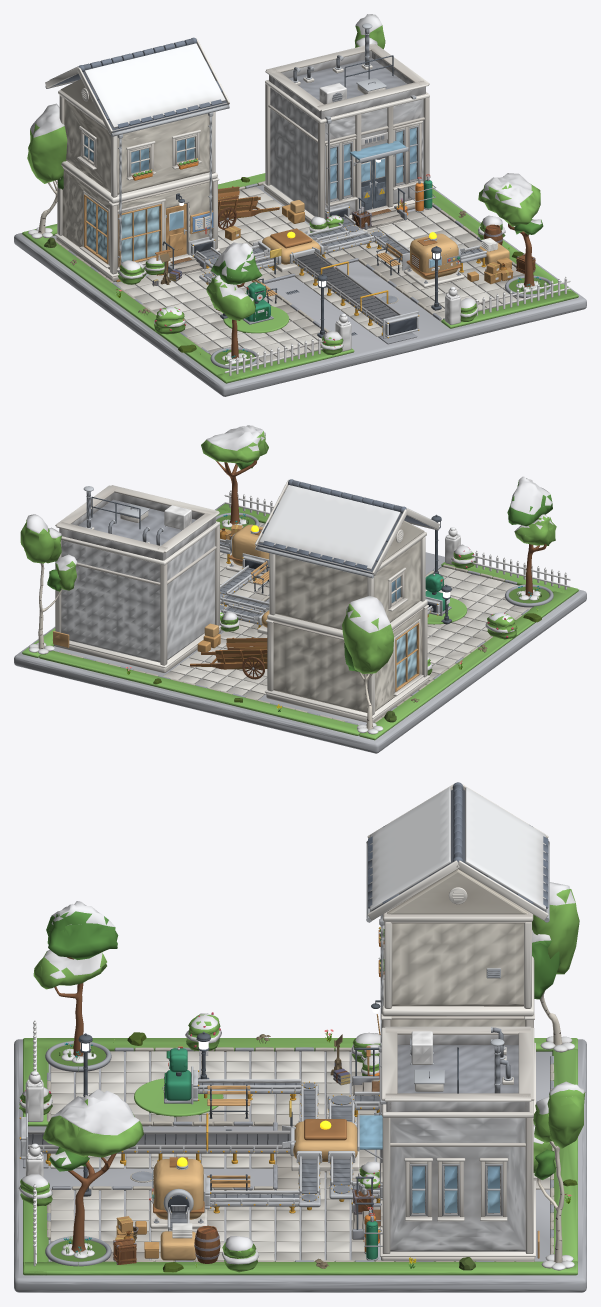
The model's file is learn.glb.
3 views of the same model, one above another, from view 1: azimuth 30°, elevation 25°; view 2: azimuth 150°, elevation 25°; view 3: azimuth 270°, elevation 25° (orthographic). The views are drawn at different scales.
Visible parts, largest first — view 1: Ground_paving, Ground_base, Lab_trim, Library_wall, Lab_lab_wall, Library_trim, Snow_lib_roof4, Ground_grass, Fence_south, Belt_Main_learn, Library_glass, Lab_metal (+27 smaller); view 2: Lab_lab_wall, Library_wall, Ground_base, Ground_paving, Snow_lib_roof4, Ground_grass, Library_trim, Lab_trim, Snow_L5tree_NW, Lab_stone, Snow_L5tree_SE, Snow_L5tree_NE (+21 smaller); view 3: Ground_paving, Ground_base, Lab_lab_wall, Library_wall, Ground_grass, Snow_lib_roof4, Lab_trim, Library_trim, Snow_L5tree_SE, Lab_stone, Belt_Main_learn, Ground_curbs (+29 smaller).
Part boxes in pixels (x1=…): Ground_paving: x1=116, y1=186, x2=524, y2=362; Ground_base: x1=14, y1=185, x2=586, y2=396; Lab_trim: x1=262, y1=43, x2=429, y2=228; Library_wall: x1=60, y1=79, x2=209, y2=269; Lab_lab_wall: x1=269, y1=51, x2=425, y2=216; Library_trim: x1=45, y1=38, x2=229, y2=281; Snow_lib_roof4: x1=28, y1=39, x2=540, y2=362; Ground_grass: x1=22, y1=173, x2=578, y2=383; Fence_south: x1=224, y1=278, x2=570, y2=375; Belt_Main_learn: x1=291, y1=247, x2=401, y2=335; Library_glass: x1=86, y1=198, x2=159, y2=262; Lab_metal: x1=292, y1=23, x2=436, y2=216; Lab_lab_wall: x1=59, y1=492, x2=215, y2=662; Library_wall: x1=273, y1=520, x2=424, y2=712; Ground_base: x1=14, y1=503, x2=586, y2=753; Ground_paving: x1=163, y1=522, x2=532, y2=699; Snow_lib_roof4: x1=28, y1=480, x2=540, y2=734; Ground_grass: x1=22, y1=503, x2=578, y2=740; Library_trim: x1=255, y1=479, x2=439, y2=722; Lab_trim: x1=52, y1=485, x2=221, y2=672; Snow_L5tree_NW: x1=342, y1=595, x2=393, y2=727; Lab_stone: x1=78, y1=499, x2=195, y2=544; Snow_L5tree_SE: x1=201, y1=425, x2=268, y2=522; Snow_L5tree_NE: x1=20, y1=514, x2=77, y2=648; Ground_paving: x1=50, y1=1051, x2=549, y2=1261; Ground_base: x1=14, y1=1039, x2=586, y2=1292; Lab_lab_wall: x1=386, y1=1035, x2=529, y2=1251; Library_wall: x1=387, y1=869, x2=528, y2=1026; Ground_grass: x1=23, y1=1038, x2=577, y2=1275; Snow_lib_roof4: x1=61, y1=787, x2=574, y2=1270; Lab_trim: x1=353, y1=1026, x2=535, y2=1261; Library_trim: x1=353, y1=783, x2=548, y2=1113; Snow_L5tree_SE: x1=42, y1=1089, x2=143, y2=1250; Lab_stone: x1=352, y1=1045, x2=518, y2=1239; Belt_Main_learn: x1=28, y1=1113, x2=295, y2=1165; Ground_curbs: x1=47, y1=1047, x2=554, y2=1261.
Bounding box in the file's own units: 16 × 8.74 × 16.
